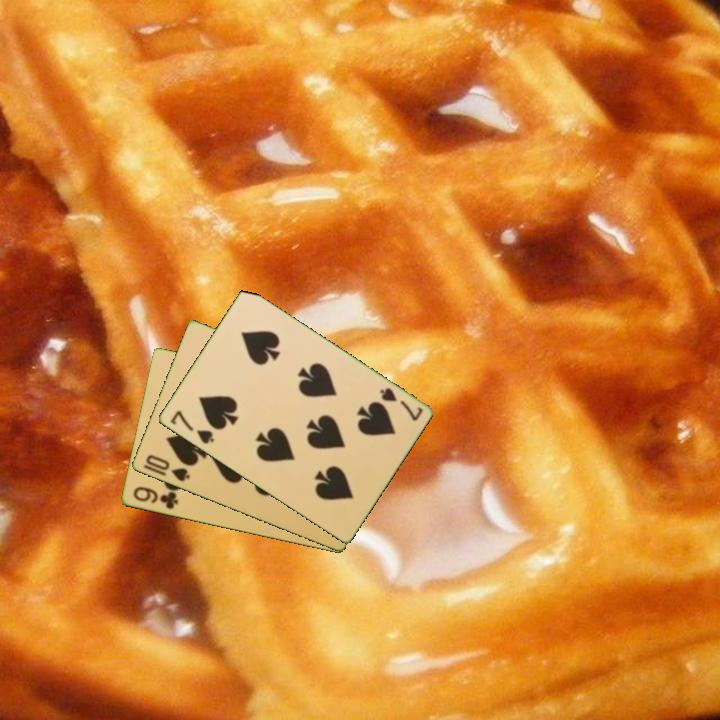10s: (142, 451, 193, 485)
7s: (166, 407, 217, 447), (376, 384, 426, 424)
9c: (129, 483, 181, 512)
